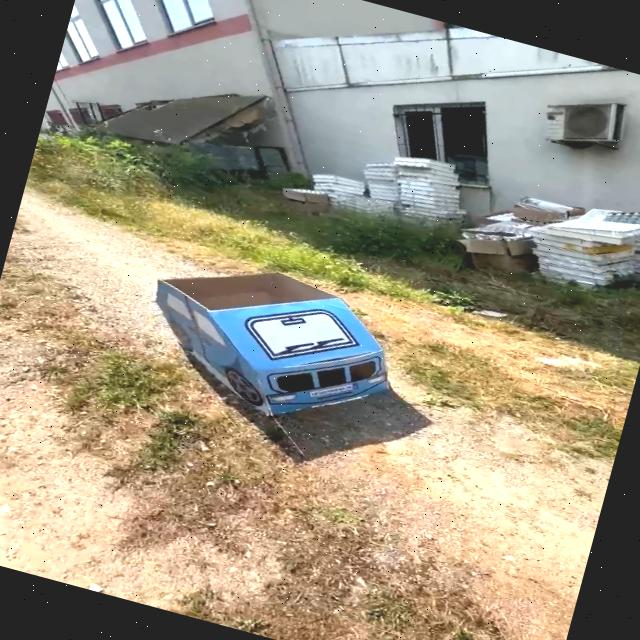blue_car: (117, 229, 432, 463)
